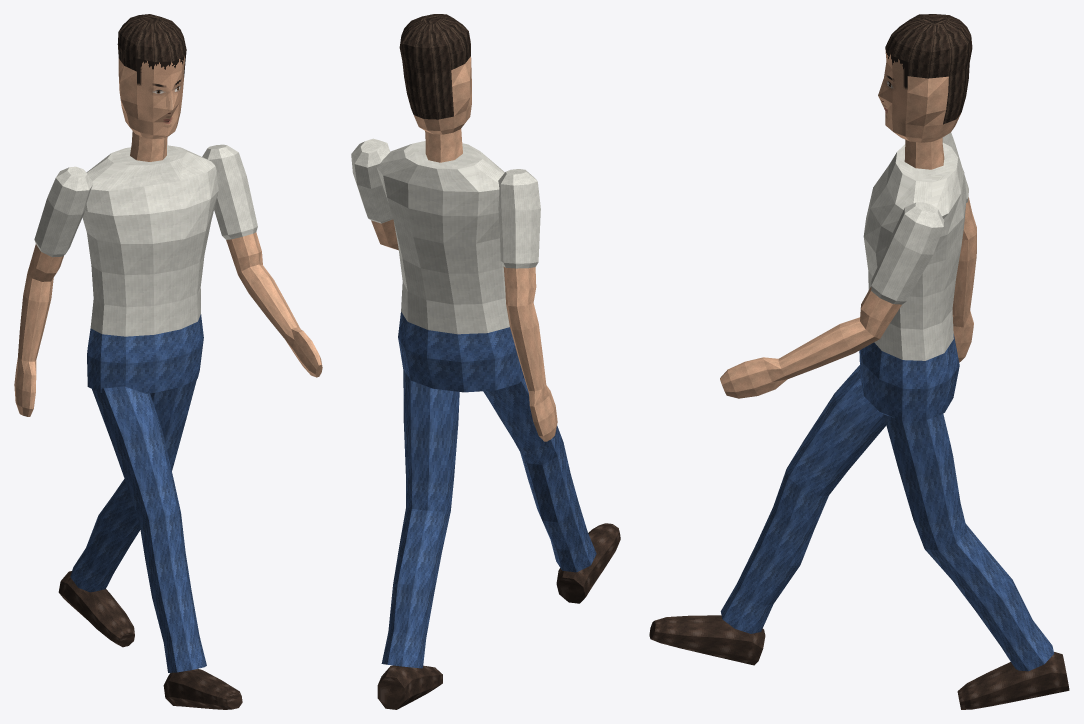
The model's file is walk_15.obj.
The picture shows the model from 3 angles, left to right: view 1: azimuth 30°, elevation 25°; view 2: azimuth 150°, elevation 25°; view 3: azimuth 270°, elevation 25°; orthographic projection. The views are drawn at different scales.
Size of the model in its own units: 0.6226 by 1.81 by 0.9921.
25 materials, 25 textured.
